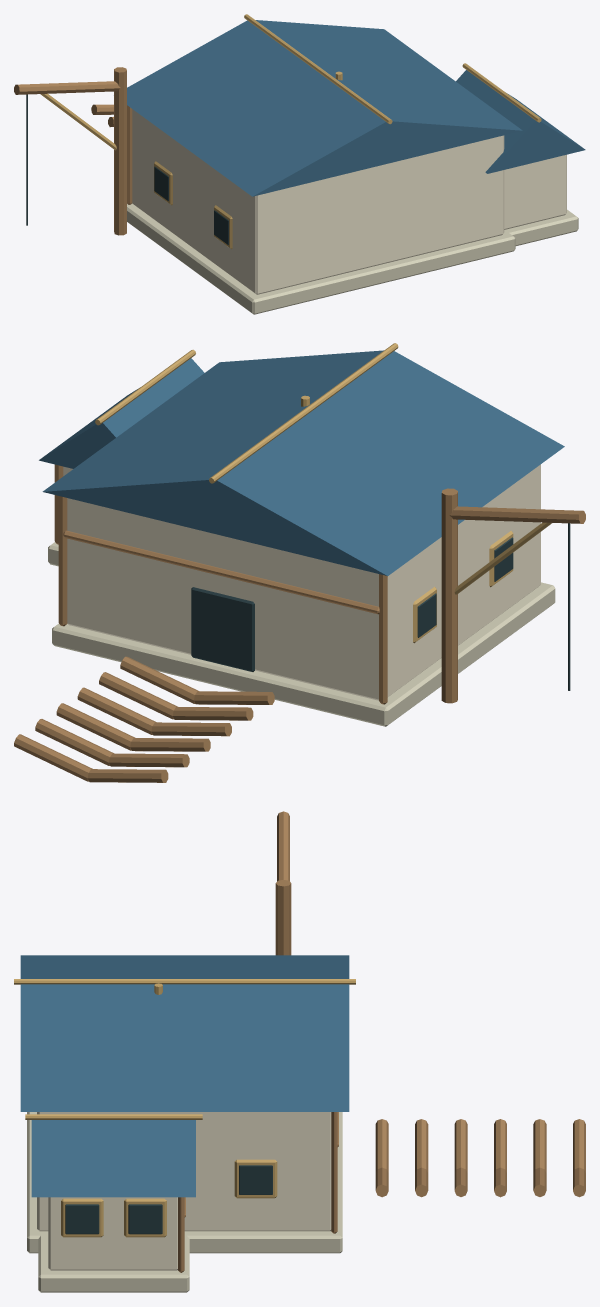
File: level_11.glb
The picture shows the model from 3 angles, top to bottom: view 1: azimuth 30°, elevation 25°; view 2: azimuth 150°, elevation 25°; view 3: azimuth 270°, elevation 25°; orthographic projection. The views are drawn at different scales.
Visible parts, largest first — view 1: shipyard — level 11; view 2: shipyard — level 11; view 3: shipyard — level 11.
Part boxes in pixels (x1,y1,x2,y2): shipyard — level 11: [14, 14, 585, 314]; shipyard — level 11: [14, 343, 585, 782]; shipyard — level 11: [14, 811, 585, 1292].
Bounding box in the file's own units: 9.65 × 3.66 × 8.7.
